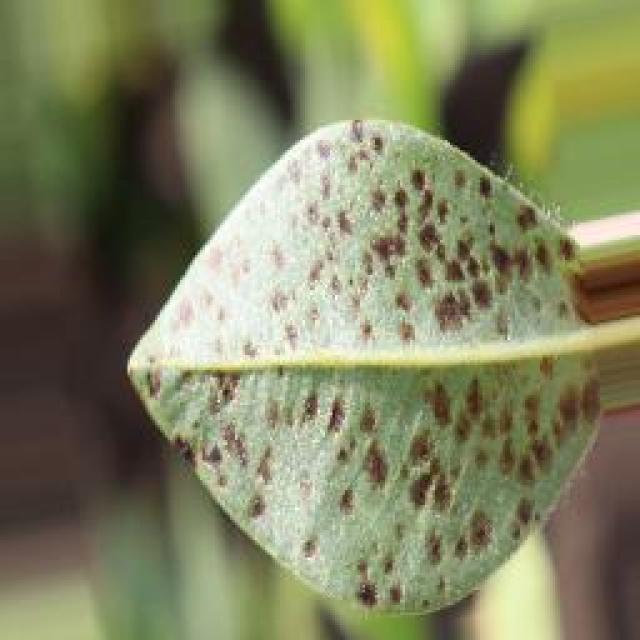Whitefly: (136, 175, 594, 638)
